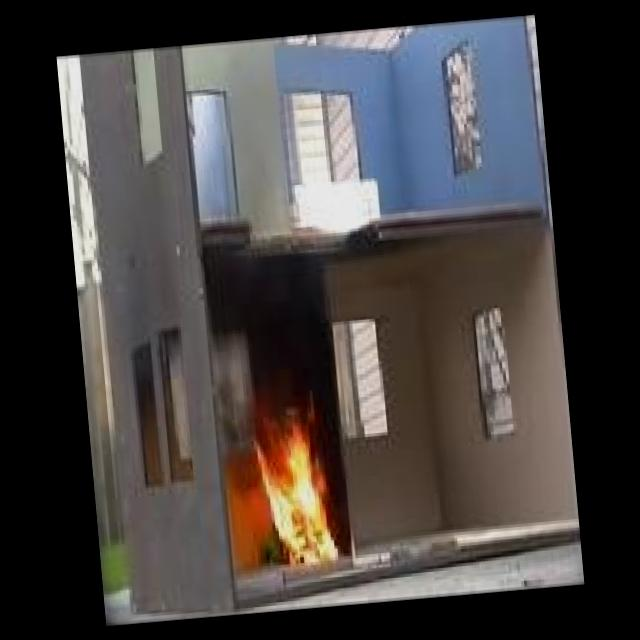fire: (246, 400, 343, 575)
